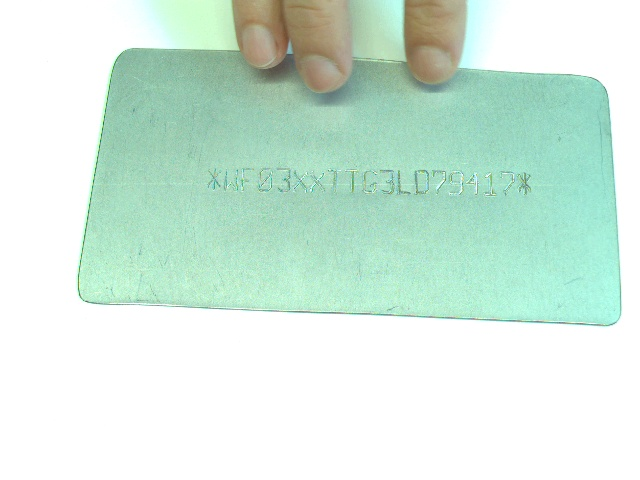0: (256, 167, 274, 194)
1: (482, 171, 498, 197)
3: (379, 167, 397, 196), (275, 167, 292, 194)
4: (465, 171, 481, 197)
7: (498, 170, 516, 197), (431, 166, 447, 196)
9: (447, 169, 465, 196)
d: (413, 169, 431, 196)
f: (239, 166, 255, 194)
g: (361, 167, 378, 194)
l: (395, 167, 411, 196)
t: (343, 166, 360, 196), (326, 167, 344, 195)
w: (223, 167, 240, 192)
x: (308, 169, 327, 195), (292, 167, 309, 195)
